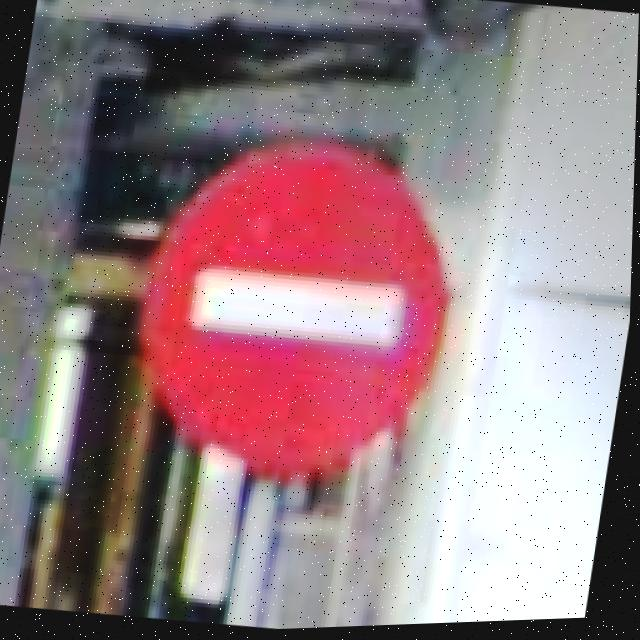noentry: (118, 114, 483, 507)
